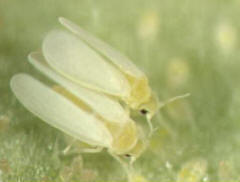whitefly: (10, 52, 153, 177), (41, 16, 190, 134)
